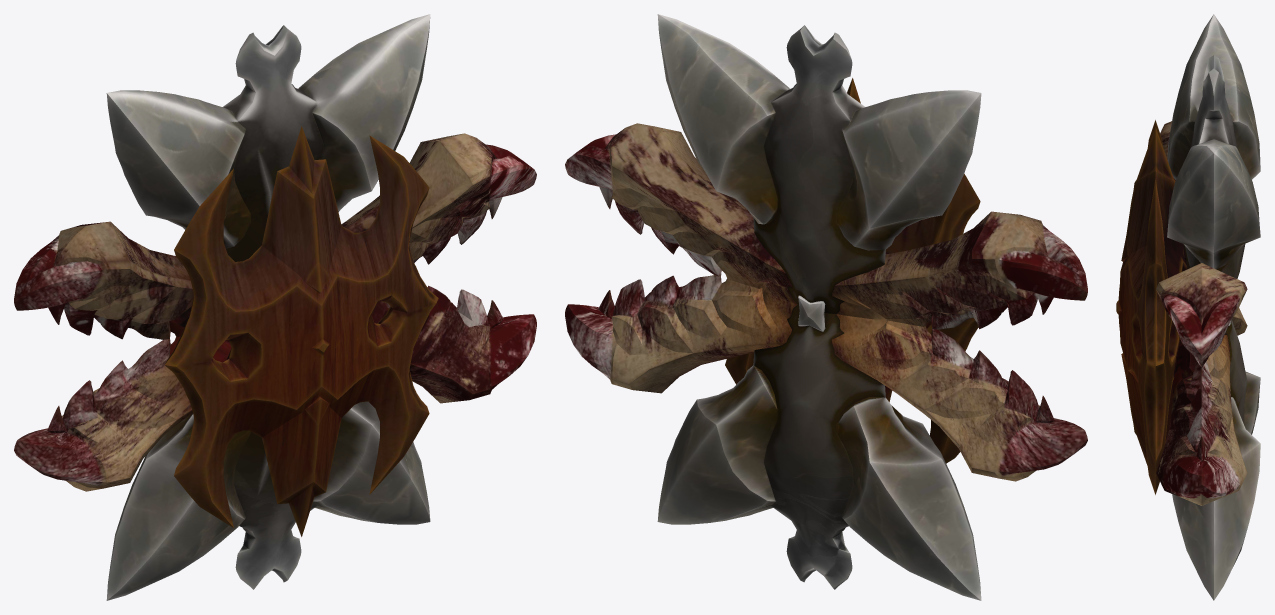
The model's file is Yamashi 5.fbx.
The picture shows the model from 3 angles, left to right: view 1: azimuth 30°, elevation 25°; view 2: azimuth 150°, elevation 25°; view 3: azimuth 270°, elevation 25°; orthographic projection. The views are drawn at different scales.
Visible parts, largest first — view 1: Yamashi 5; view 2: Yamashi 5; view 3: Yamashi 5.
Boxes of the visible parts, bbox=[...] form: Yamashi 5: bbox=[14, 14, 536, 600]; Yamashi 5: bbox=[565, 14, 1087, 600]; Yamashi 5: bbox=[1116, 14, 1260, 600].
Bounding box in the file's own units: 10.12 × 2.75 × 10.31.
1 material, 1 textured.
